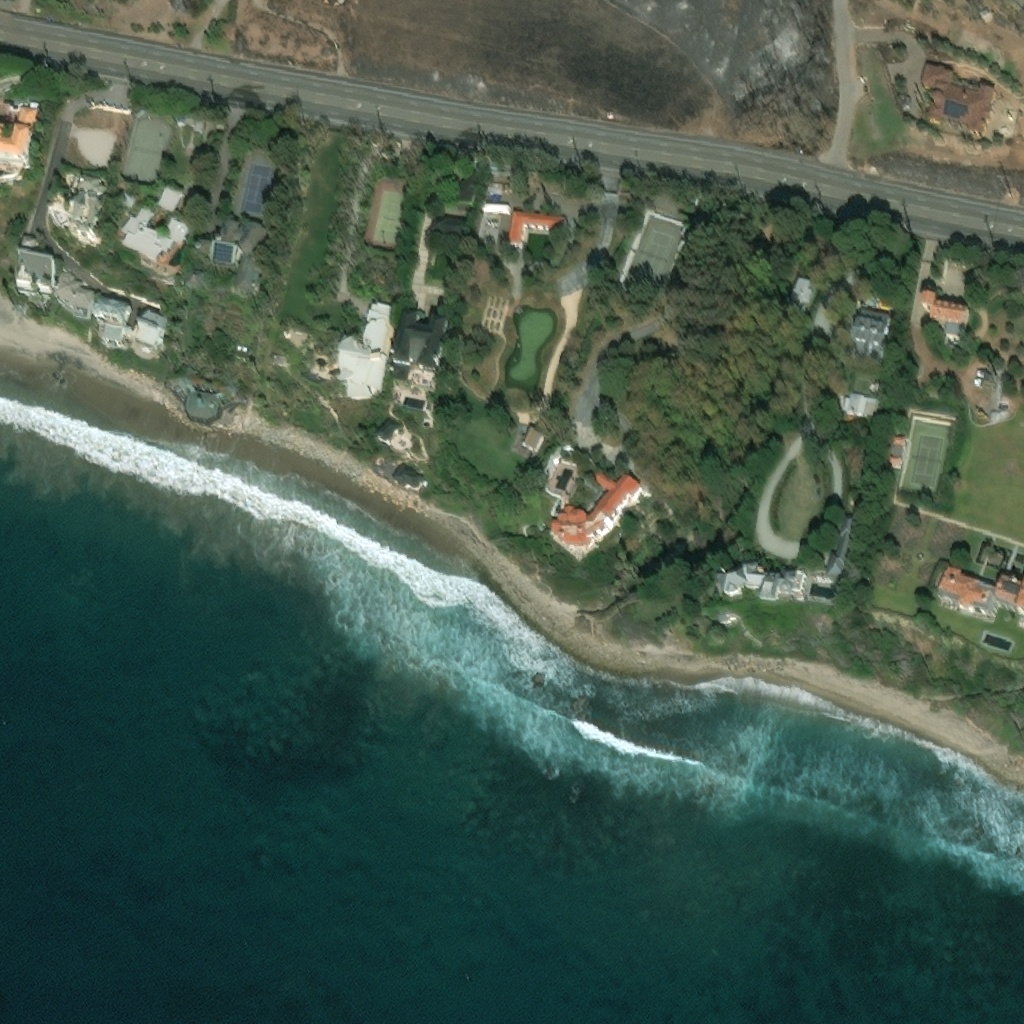0 no-damage: (549, 470, 641, 553), (338, 299, 392, 400), (919, 63, 993, 133), (714, 556, 798, 603), (392, 309, 447, 367), (121, 205, 172, 265), (171, 362, 220, 421), (0, 95, 40, 166), (505, 207, 567, 248), (937, 564, 989, 610), (849, 307, 890, 359), (823, 512, 852, 580), (54, 271, 94, 313), (921, 292, 969, 326), (131, 307, 168, 349), (68, 195, 102, 240), (994, 574, 1023, 617), (786, 278, 816, 317), (509, 426, 543, 459), (93, 295, 129, 325), (431, 179, 474, 204), (389, 459, 423, 490), (427, 215, 469, 238), (841, 391, 878, 414), (77, 175, 108, 197), (166, 217, 190, 245), (157, 185, 181, 212), (370, 456, 394, 477), (390, 363, 410, 383), (102, 323, 124, 341), (210, 182, 224, 205), (21, 236, 38, 252), (885, 451, 900, 464), (978, 7, 992, 20), (716, 610, 729, 622), (890, 431, 902, 442)
